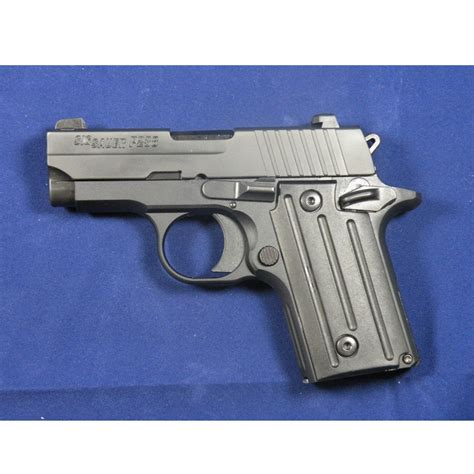gun: (45, 114, 420, 389)
